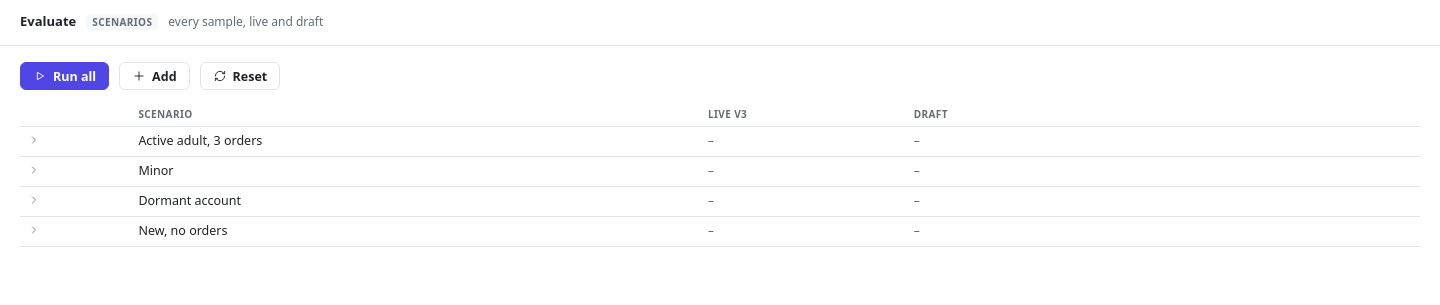
Test: ScenarioPane › keeps the rows it has and says why when a reload fails
The width and height of the screenshot is (1440, 305).
Click the button "Reset" at (240,76), box x1=200 y1=62 x2=280 y2=90
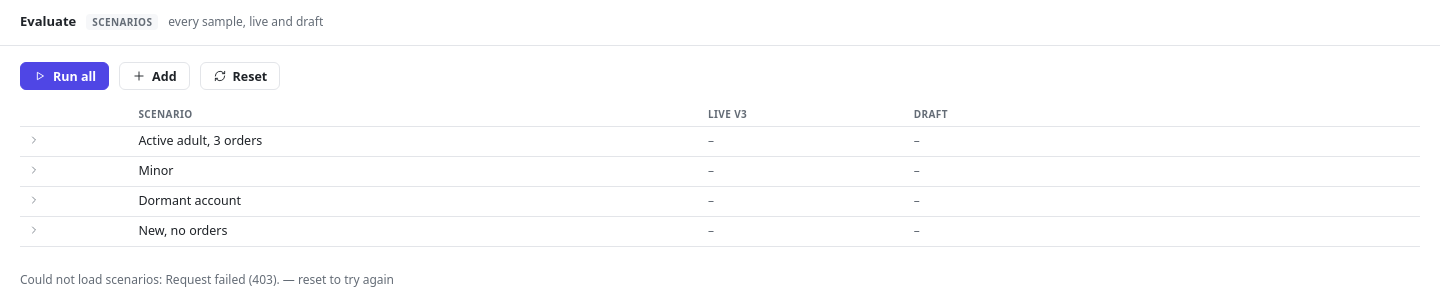
Result: the message shows "Request failed (403)." at x1=165 y1=271 x2=280 y2=288
